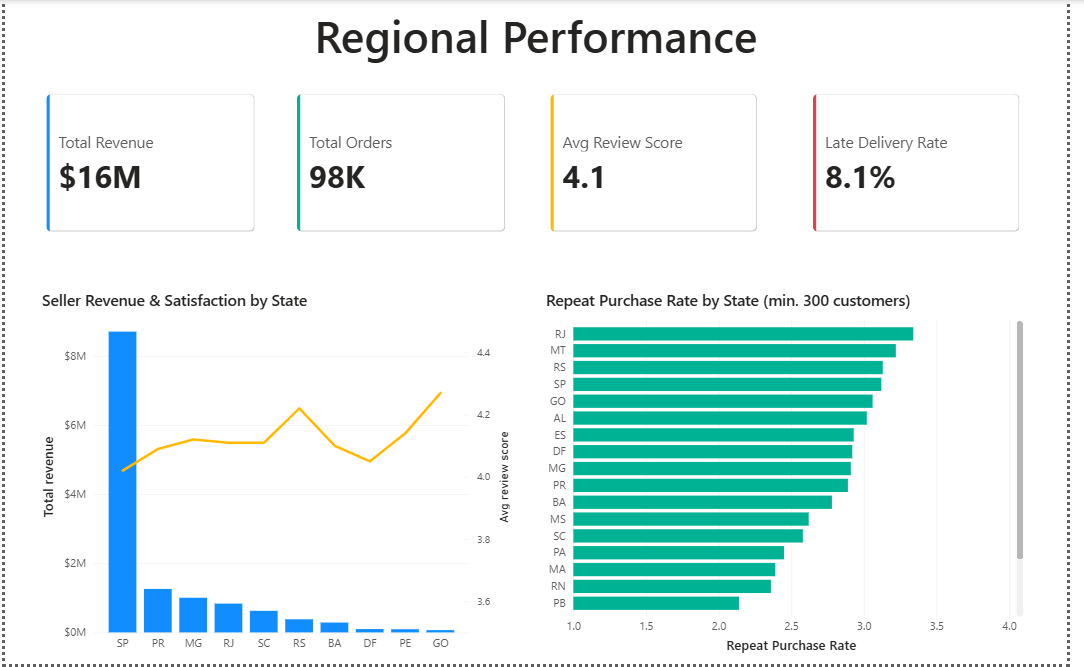

The page's visual inventory and layout, read from the dashboard file:
{"tool":"powerbi","page":{"name":"Regional Performance","canvas":[1280,800],"ordinal":2},"visuals":[{"type":"cardVisual","fields":{"Data":["Sum(public v_order_fact.payment_value)"]},"box":[32.5,95.8,285.5,200.6],"z":0},{"type":"cardVisual","fields":{"Data":["public v_order_fact.Late Delivery Rate"]},"box":[956,95.8,283.7,200.6],"z":1000},{"type":"cardVisual","fields":{"Data":["Avg(public v_order_fact.review_score)"]},"box":[639.8,95.8,283.7,200.6],"z":2000},{"type":"cardVisual","fields":{"Data":["Sum(public v_monthly_revenue.total_orders)"]},"box":[334.3,95.8,285.5,200.6],"z":3000},{"type":"textbox","box":[0,0,1279.5,95.8],"z":4000},{"type":"lineClusteredColumnComboChart","title":"Seller Revenue & Satisfaction by State","fields":{"Category":["public v_seller_region_performance.seller_state"],"Y":["Avg(public v_seller_region_performance.total_revenue)"],"Y2":["Avg(public v_seller_region_performance.avg_review_score)"]},"box":[32.5,336.2,587.4,464.5],"z":5000},{"type":"barChart","title":"Repeat Purchase Rate by State (min. 300 customers)","fields":{"Category":["public v_repeat_purchase_by_state.customer_state"],"Y":["Avg(public v_repeat_purchase_by_state.repeat_rate_pct)"]},"box":[640.6,336.4,599.1,463],"z":6000}]}

Visuals, with their boxes in screenshot pixels (x1, y1, x2, y2), scaled from the page's 1280x800 canvas onto the 1084x667 screenshot:
cardVisual - Sum(public v_order_fact.payment_value): box(28, 80, 269, 247)
cardVisual - public v_order_fact.Late Delivery Rate: box(810, 80, 1050, 247)
cardVisual - Avg(public v_order_fact.review_score): box(542, 80, 782, 247)
cardVisual - Sum(public v_monthly_revenue.total_orders): box(283, 80, 525, 247)
textbox: box(0, 0, 1083, 80)
"Seller Revenue & Satisfaction by State" lineClusteredColumnComboChart: box(28, 280, 525, 666)
"Repeat Purchase Rate by State (min. 300 customers)" barChart: box(543, 280, 1050, 666)
